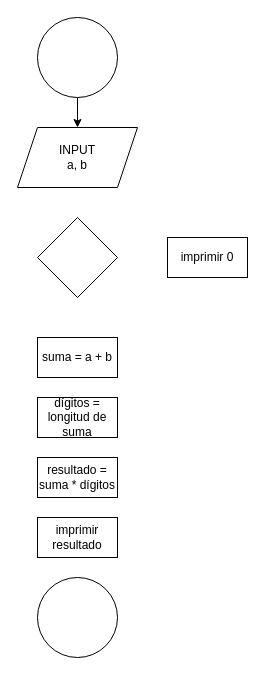
This 265x675 diagram has some shape labels left out. The shapes that lost their labels are listed below. From the top down, each one's centre as x and y in pixels, then its label:
(x=77, y=57): INICIO
(x=77, y=257): a < 0 o b < 0
(x=77, y=617): FIN
